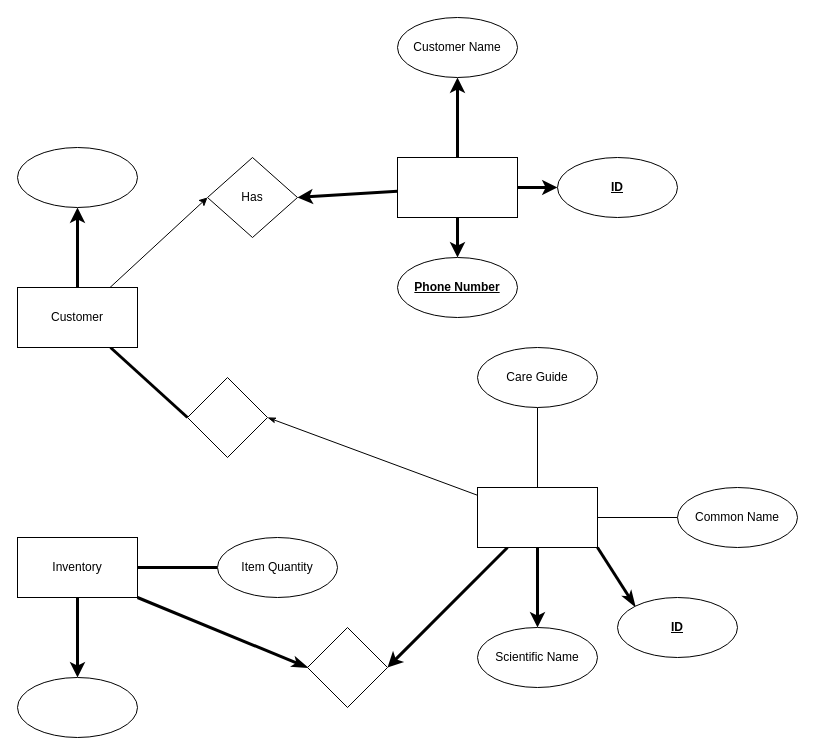
This 815x755 diagram has some shape labels left out. Here are the shapes that lost their labels. From the top down, the centre of each, then its label:
At (x=77, y=177): "New?".
At (x=457, y=187): "Membership Account".
At (x=227, y=417): "Purchase".
At (x=537, y=517): "Plant".
At (x=347, y=667): "Belongs To".
At (x=77, y=707): "Item ID".
